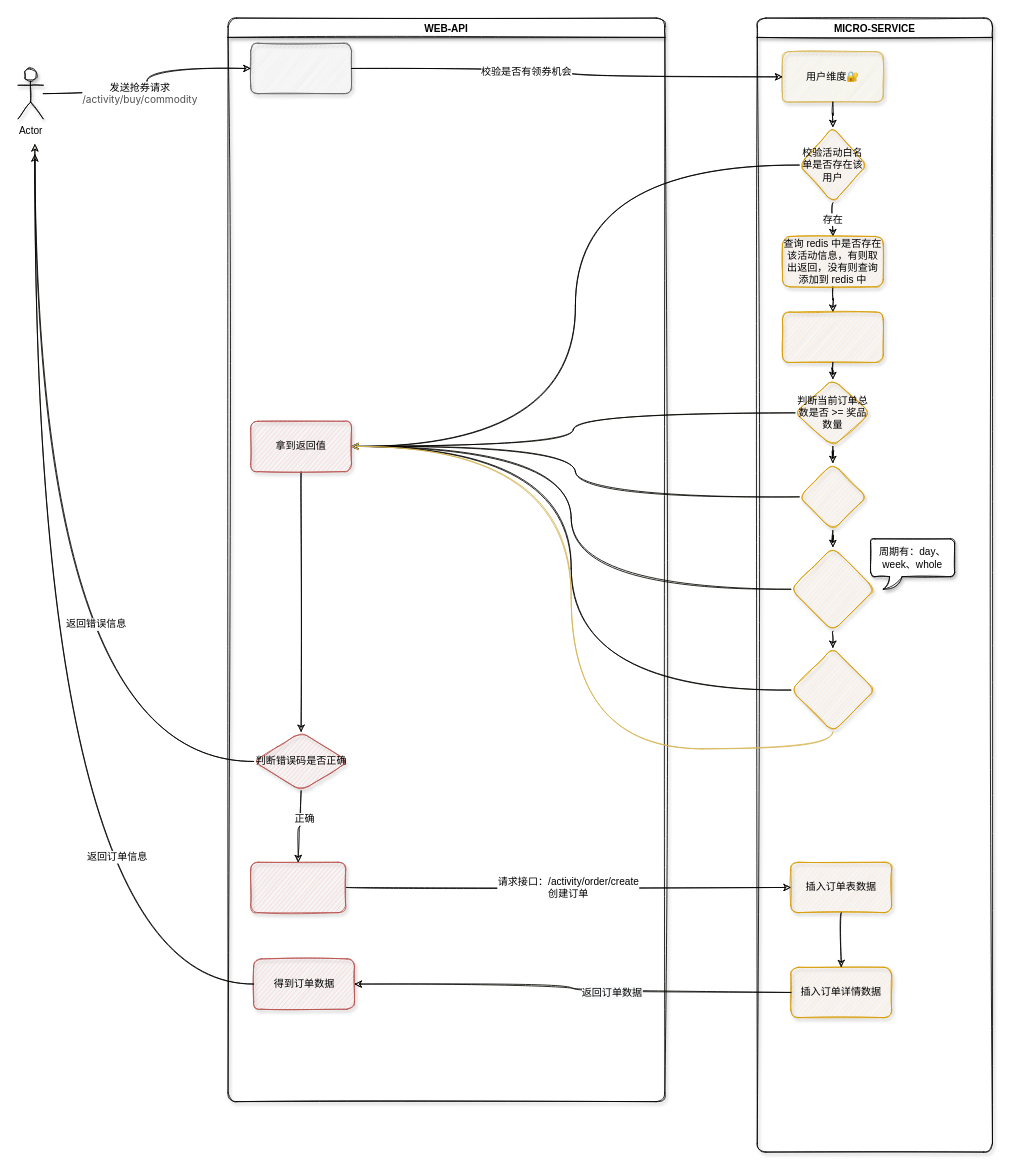
The diagram is 1012 pixels wide and 1173 high, and some of its shapes have lost their labels. Here are the shapes that lost their labels. From the top down, the centre of each, then its label:
At point 302,69: "校验必须参数是否存在".
At point 833,338: "取出 configs 中的base、award、commodity".
At point 833,497: "判断今日订单总数是否 >= 每日订单数".
At point 833,590: "判断周期内每人的订单数 >= 周期内每人可中订单数量".
At point 833,691: "该活动每人每天只能参加一次，今日是否存在订单".
At point 299,888: "封装请求参数".
